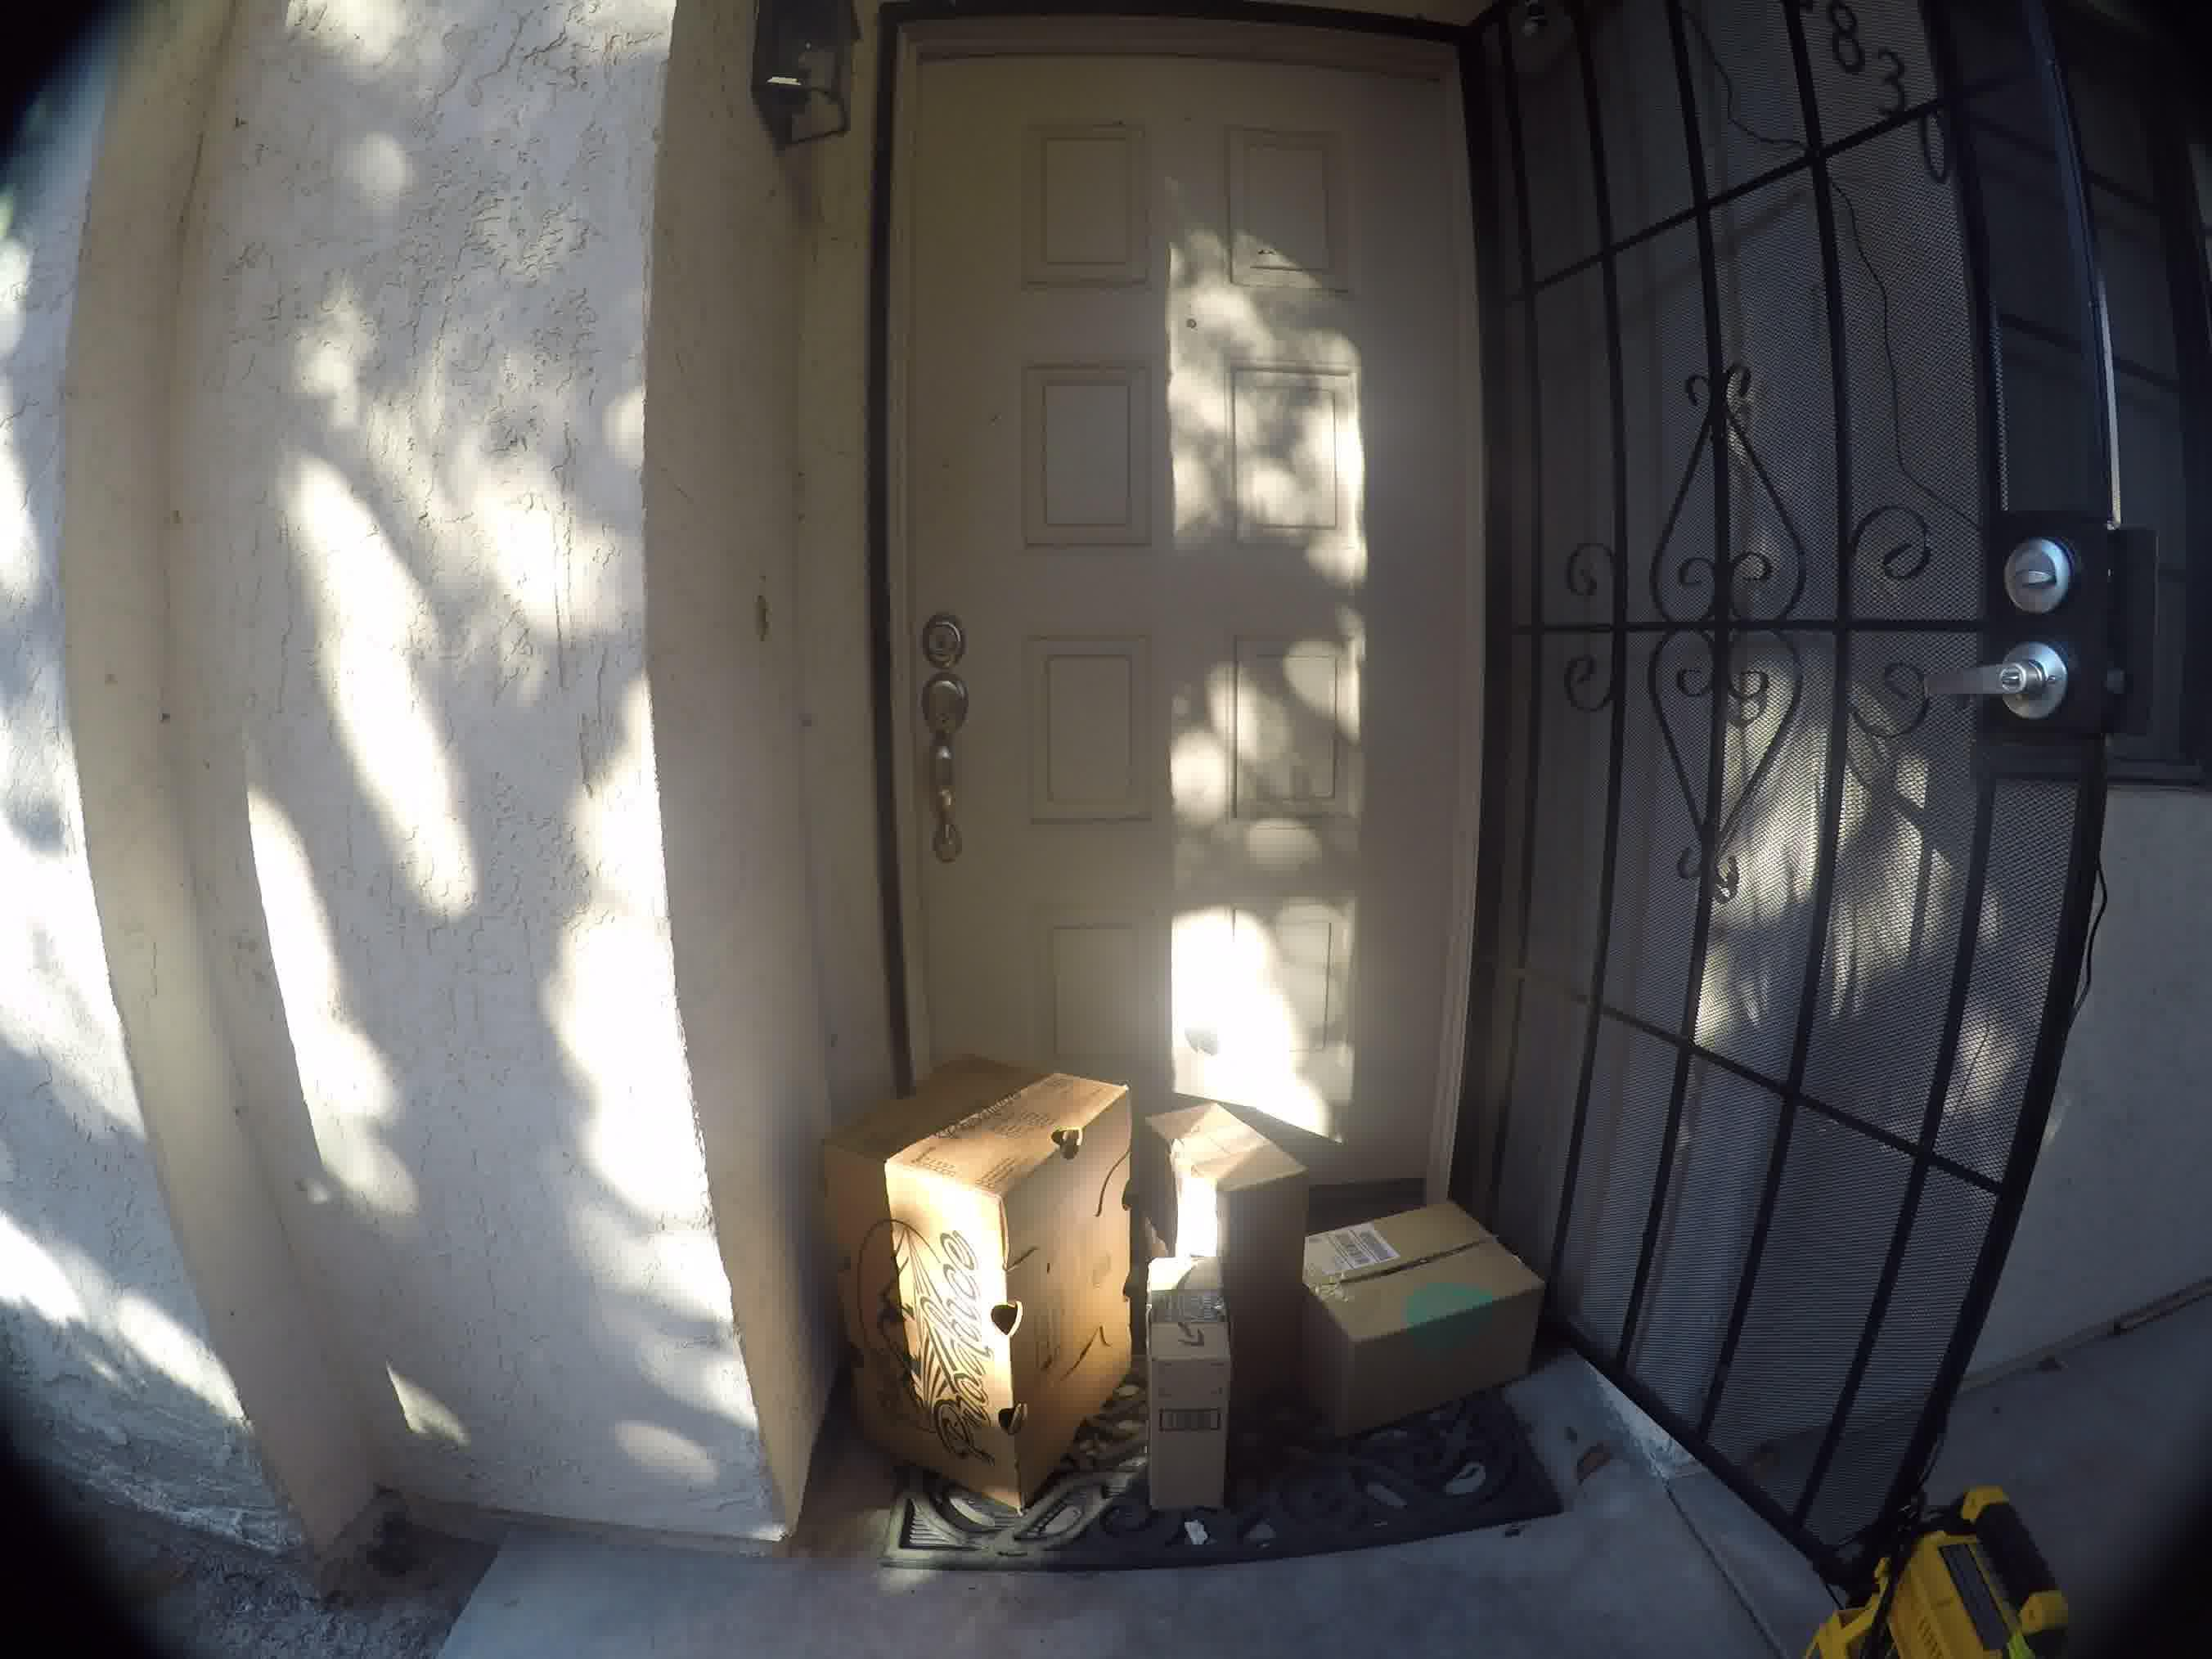box: (820, 1049, 1136, 1478), (1324, 1215, 1561, 1419), (1158, 1068, 1425, 1244), (1136, 1276, 1259, 1528)
